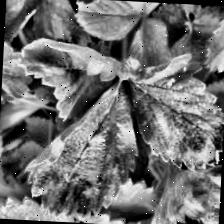Powdery Mildew Leaf: (123, 50, 224, 172), (14, 35, 142, 125), (142, 155, 221, 224), (189, 201, 219, 224)
